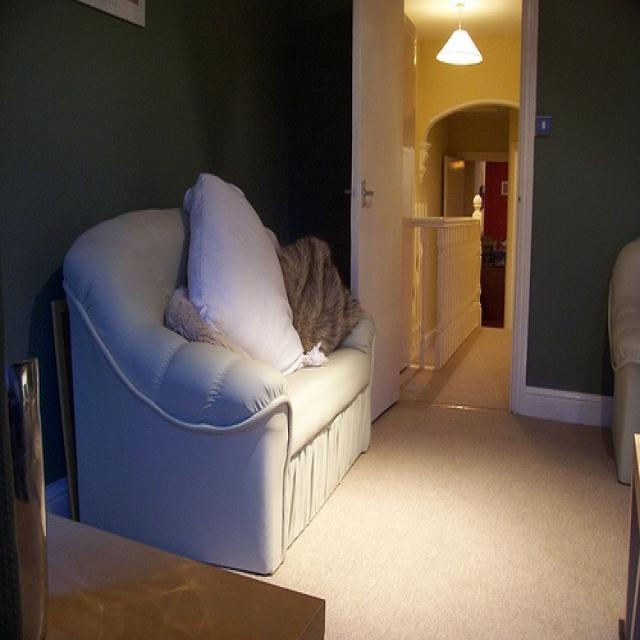chair: (606, 238, 640, 484)
sofa: (64, 206, 377, 576)
